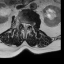CCS_normal: (24, 20, 26, 30)
LFS_stenosis: (29, 21, 31, 28)
LLS_normal: (27, 21, 29, 28)
RFS_stenosis: (20, 20, 22, 26)
RLS_normal: (22, 21, 24, 29)
